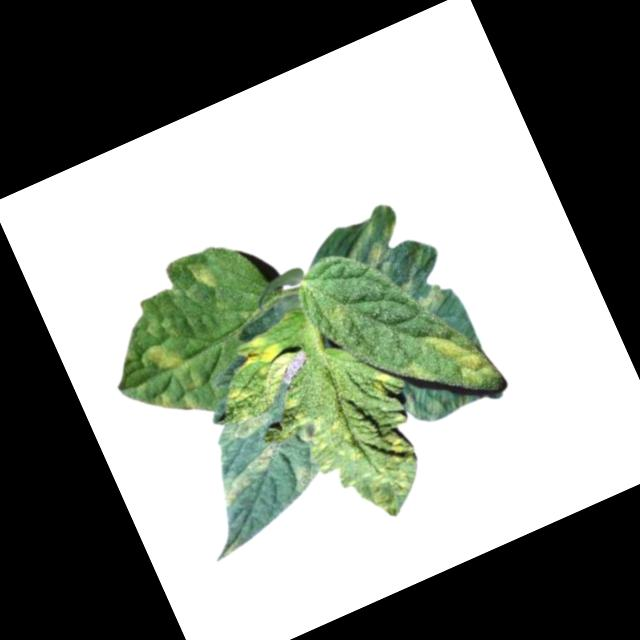Leaf_Mold: (298, 384, 445, 537), (418, 311, 503, 404), (131, 332, 210, 423), (333, 201, 415, 284), (208, 441, 291, 509), (228, 325, 293, 379), (213, 403, 281, 450), (187, 255, 222, 298), (415, 281, 455, 316), (290, 464, 325, 499), (369, 368, 400, 399)
